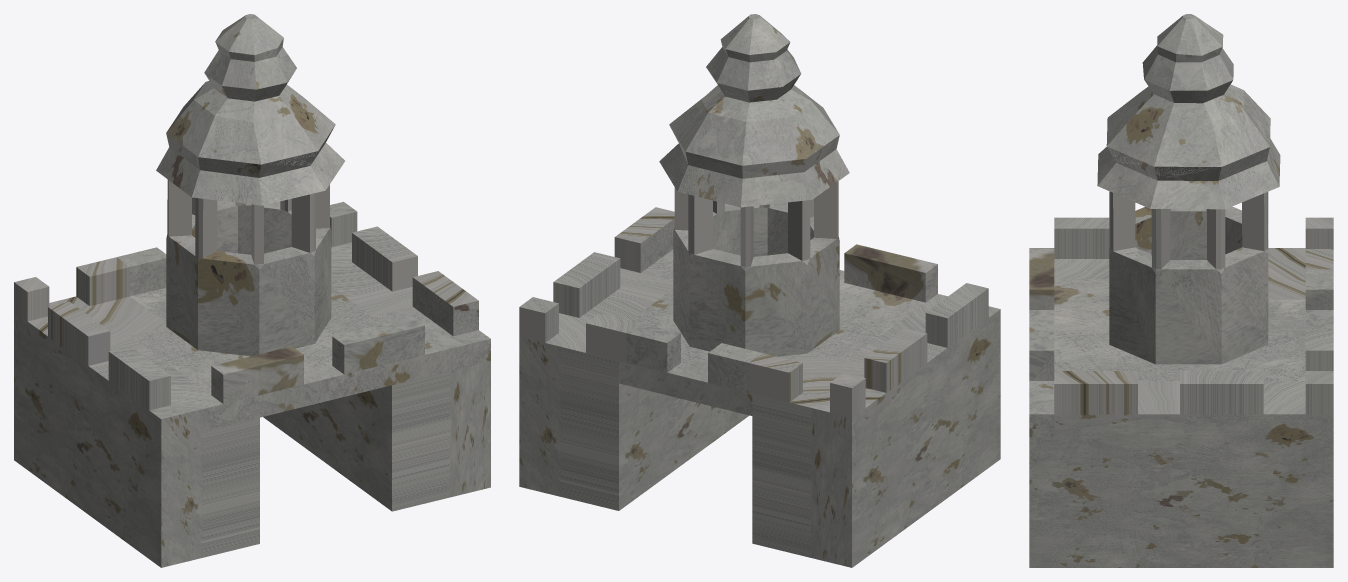
File: fortress.glb
3 renders of one model, left to right at view 1: azimuth 30°, elevation 25°; view 2: azimuth 150°, elevation 25°; view 3: azimuth 270°, elevation 25°, orthographic. The views are drawn at different scales.
Visible parts, largest first — view 1: 1; view 2: 1; view 3: 1.
Part boxes in pixels (x1,y1,x2,y2): 1: (14,14,490,567); 1: (519,14,1000,567); 1: (1029,14,1333,567).
Size of the model in its own units: 63.27 by 83.31 by 48.91.
Materials: 1 (1 with a texture image).
